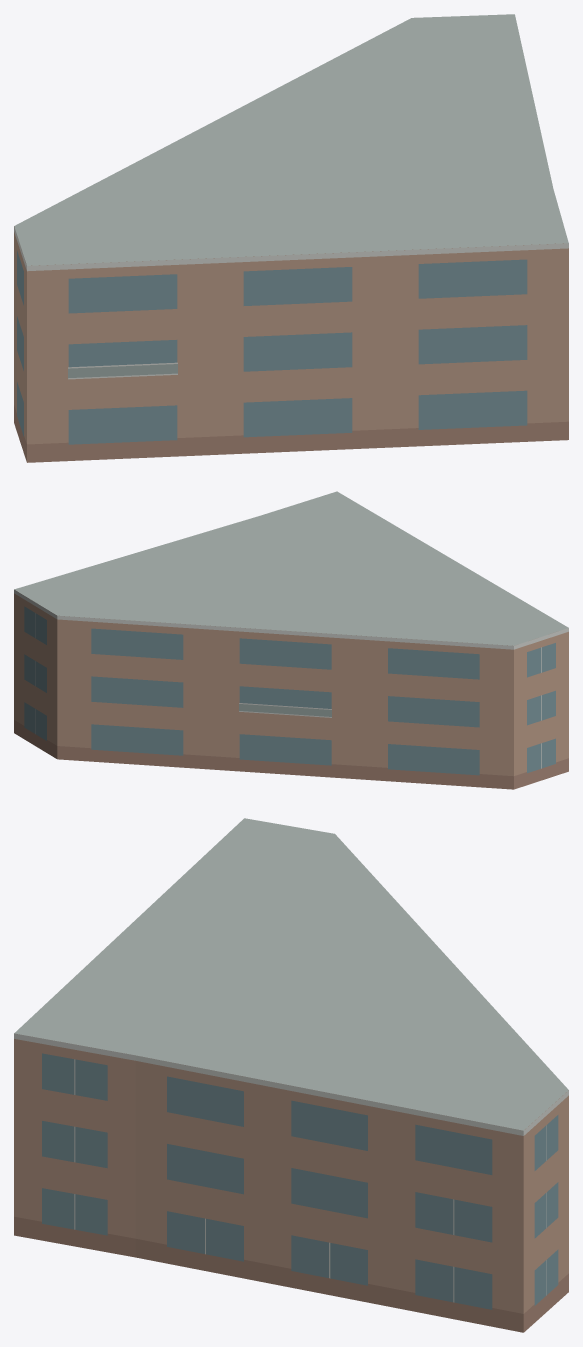
The model's file is survey-upis-32836599.glb.
The picture shows the model from 3 angles, top to bottom: view 1: azimuth 30°, elevation 25°; view 2: azimuth 150°, elevation 25°; view 3: azimuth 270°, elevation 25°; orthographic projection. The views are drawn at different scales.
Parts seen in each view (by area): view 1: survey-upis-32836599.tmp; view 2: survey-upis-32836599.tmp; view 3: survey-upis-32836599.tmp.
Boxes of the visible parts, <box> form: survey-upis-32836599.tmp: <box>14,14,568,462</box>; survey-upis-32836599.tmp: <box>14,491,568,789</box>; survey-upis-32836599.tmp: <box>14,818,568,1332</box>.
Size of the model in its own units: 30.36 by 9.15 by 22.78.
